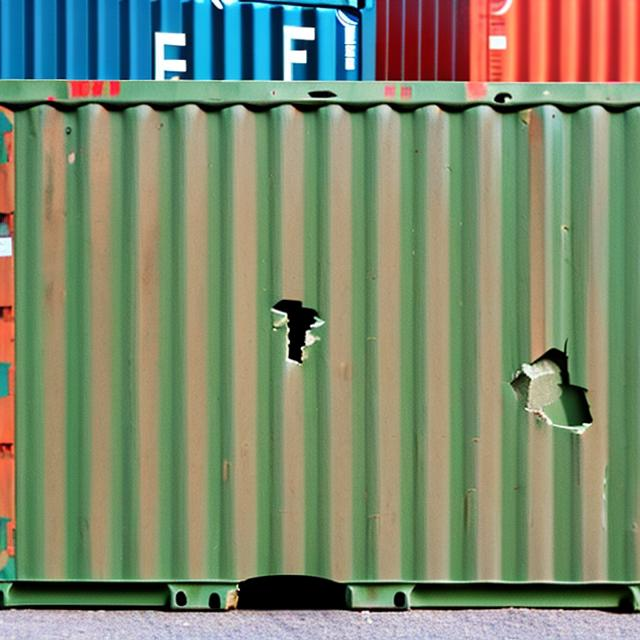hole: (510, 337, 610, 444), (275, 290, 329, 376)
